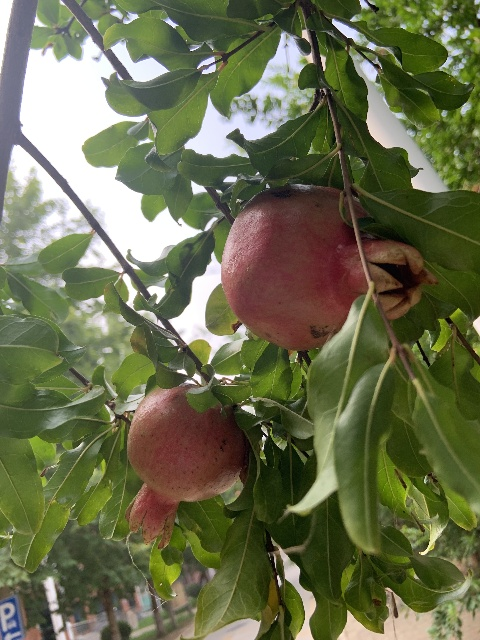ripe: (222, 185, 434, 349), (125, 384, 247, 549)
